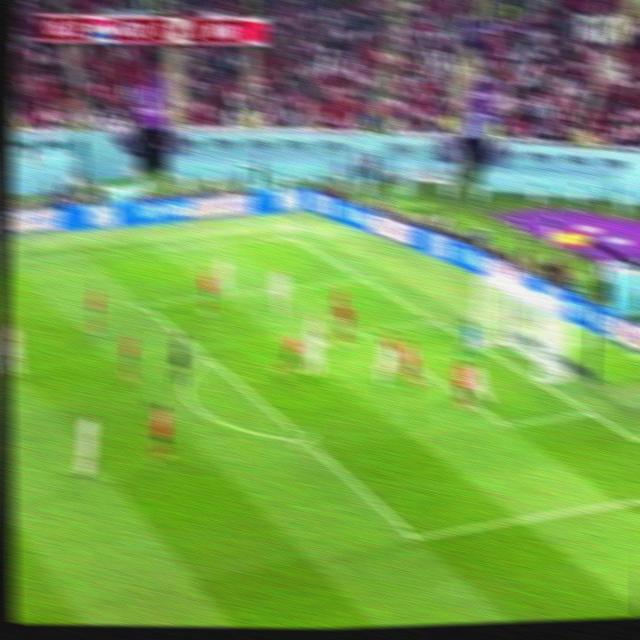bigarea_bottom_inner: (399, 519, 430, 554)
bigarea_top_inner: (131, 291, 155, 315)
bigarea_top_outter: (351, 269, 373, 288)
bottom_arc_area_intersection: (291, 427, 317, 452)
corner: (275, 229, 299, 244)
smallarea_bottom_inner: (492, 409, 519, 439)
smallarea_bottom_outter: (575, 401, 601, 423)
smallarea_top_inner: (351, 319, 373, 340)
smallarea_top_outter: (422, 308, 446, 331)
top_arc_area_intersection: (197, 347, 221, 370)
